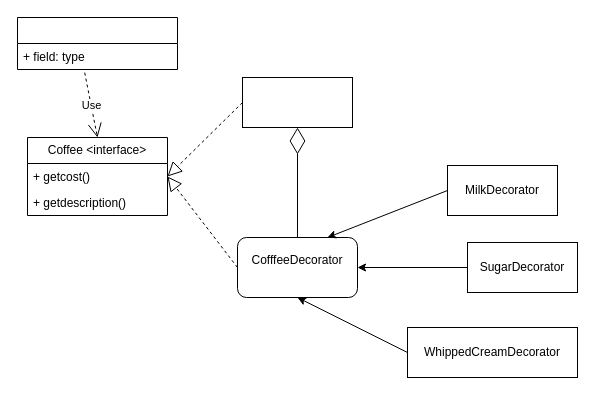
Some shapes in this 595 by 395 pixel diagram are drawn without their labels. Here are the shapes that lost their labels. From the top down, the box of each, then its label:
(16, 16, 178, 70): Main(Client)
(242, 76, 352, 128): SimpleCoffee
